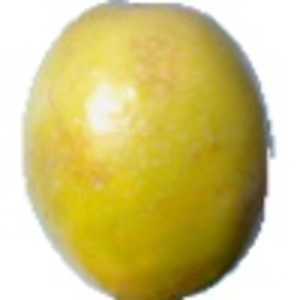maracujá: (20, 1, 277, 300)
